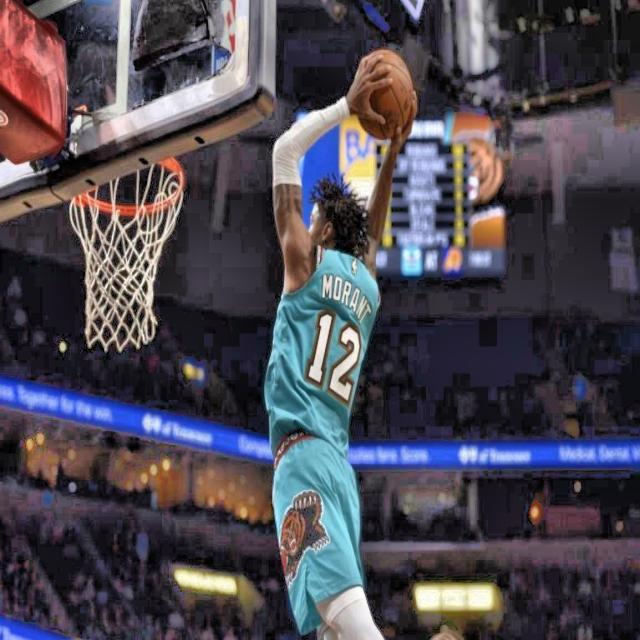rim: (70, 148, 186, 354)
